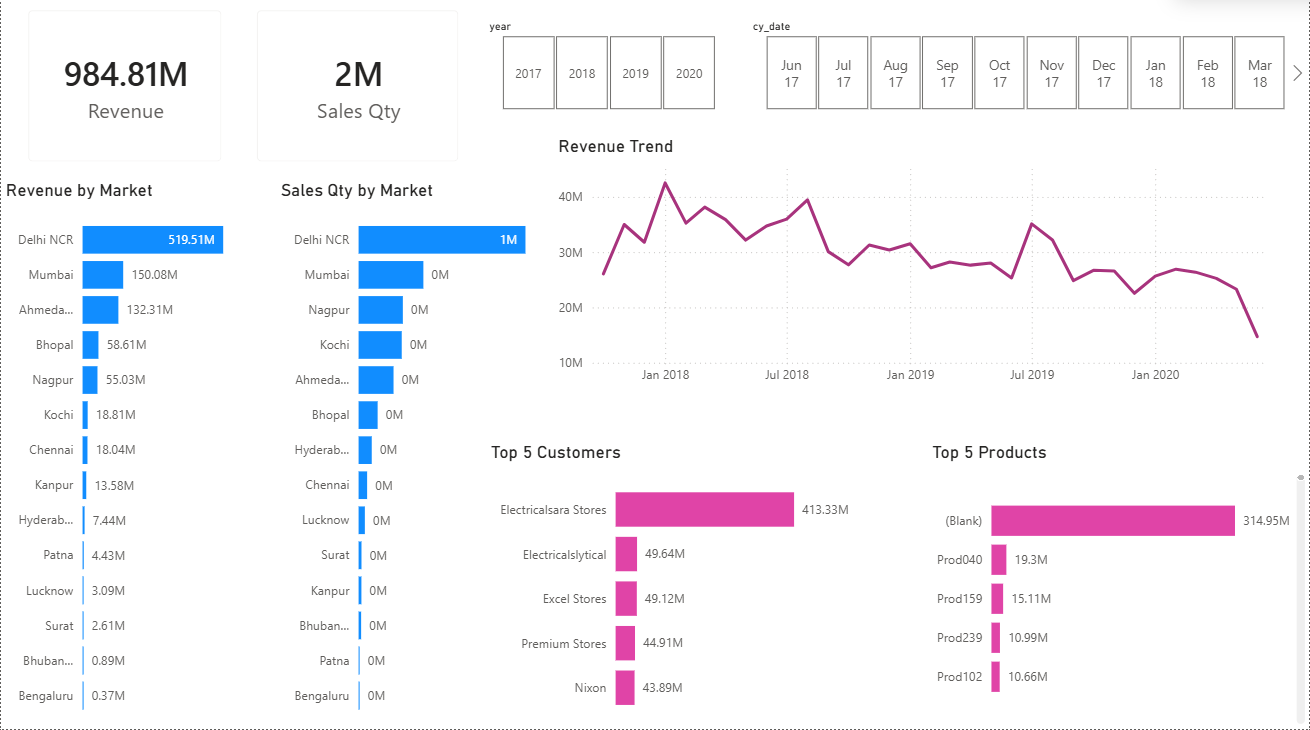

This screenshot's page, from the dashboard's own definition file:
{"tool":"powerbi","page":{"name":"Page 1","canvas":[1280,720],"ordinal":0},"visuals":[{"type":"textbox","box":[10,0,280,280],"z":0},{"type":"cardVisual","fields":{"Data":["BaseMeasures.Revenue"]},"box":[9.6,0,223.7,182.5],"z":1000},{"type":"cardVisual","fields":{"Data":["BaseMeasures.Sales Qty"]},"box":[233.3,0,231.9,182.5],"z":2000},{"type":"barChart","title":"Revenue by Market","fields":{"Y":["BaseMeasures.Revenue"],"Category":["sales markets.markets_name"]},"box":[0,182.5,269,537.9],"z":3000},{"type":"barChart","title":"Sales Qty by Market","fields":{"Y":["BaseMeasures.Sales Qty"],"Category":["sales markets.markets_name"]},"box":[269,182.5,271.7,537.9],"z":4000},{"type":"slicer","fields":{"Values":["sales date.cy_date"]},"box":[723.2,20.6,557.1,100.2],"z":5000},{"type":"slicer","fields":{"Values":["sales date.year"]},"box":[465.2,20.6,258,100.2],"z":6000},{"type":"barChart","title":"Top 5 Customers","fields":{"Y":["BaseMeasures.Revenue"],"Category":["sales customers.custmer_name"]},"box":[474.8,439.1,365,281.3],"z":7000},{"type":"barChart","title":"Top 5 Products","fields":{"Y":["BaseMeasures.Revenue"],"Category":["sales products.product_code"]},"box":[905.7,439.1,374.6,281.3],"z":8000},{"type":"lineChart","title":"Revenue Trend","fields":{"Category":["sales date.cy_date"],"Y":["BaseMeasures.Revenue"]},"box":[540.7,140,717.7,252.5],"z":9000}]}

Visuals, with their boxes in screenshot pixels (x1, y1, x2, y2), scaled from the page's 1280x720 canvas onto the 1310x730 screenshot:
textbox: (left=10, top=0, right=297, bottom=284)
cardVisual - BaseMeasures.Revenue: (left=10, top=0, right=239, bottom=185)
cardVisual - BaseMeasures.Sales Qty: (left=239, top=0, right=476, bottom=185)
"Revenue by Market" barChart: (left=0, top=185, right=275, bottom=729)
"Sales Qty by Market" barChart: (left=275, top=185, right=553, bottom=729)
slicer - sales date.cy_date: (left=740, top=21, right=1309, bottom=122)
slicer - sales date.year: (left=476, top=21, right=740, bottom=122)
"Top 5 Customers" barChart: (left=486, top=445, right=859, bottom=729)
"Top 5 Products" barChart: (left=927, top=445, right=1309, bottom=729)
"Revenue Trend" lineChart: (left=553, top=142, right=1288, bottom=398)
